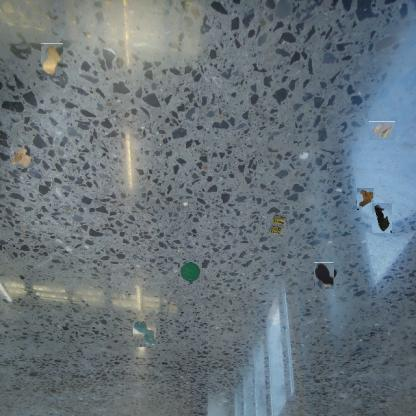dirty: (41, 43, 63, 76), (372, 203, 392, 233), (10, 144, 34, 168), (178, 260, 202, 284), (369, 121, 395, 140), (266, 214, 288, 234), (355, 189, 375, 209)
liquid: (132, 322, 157, 346), (313, 264, 336, 288)
